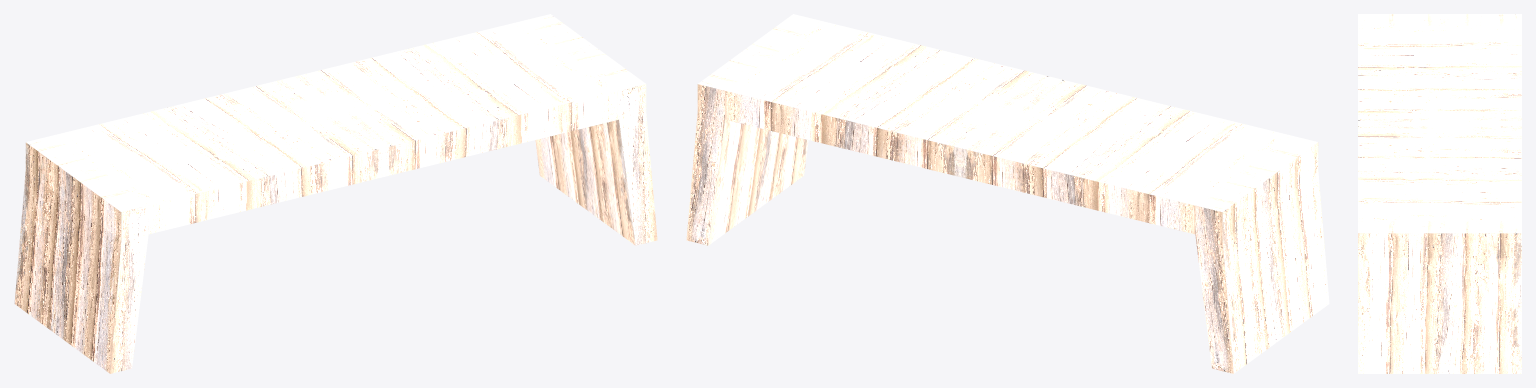
File: Bench_1.glb
3 views of the same model, side by side, from view 1: azimuth 30°, elevation 25°; view 2: azimuth 150°, elevation 25°; view 3: azimuth 270°, elevation 25° (orthographic). The views are drawn at different scales.
Visible parts, largest first — view 1: Bench_1; view 2: Bench_1; view 3: Bench_1.
Part boxes in pixels (x1,y1,x2,y2): Bench_1: [14, 14, 657, 373]; Bench_1: [686, 14, 1329, 373]; Bench_1: [1358, 14, 1521, 373].
Size of the model in its own units: 3.96 by 1.1 by 1.2.
